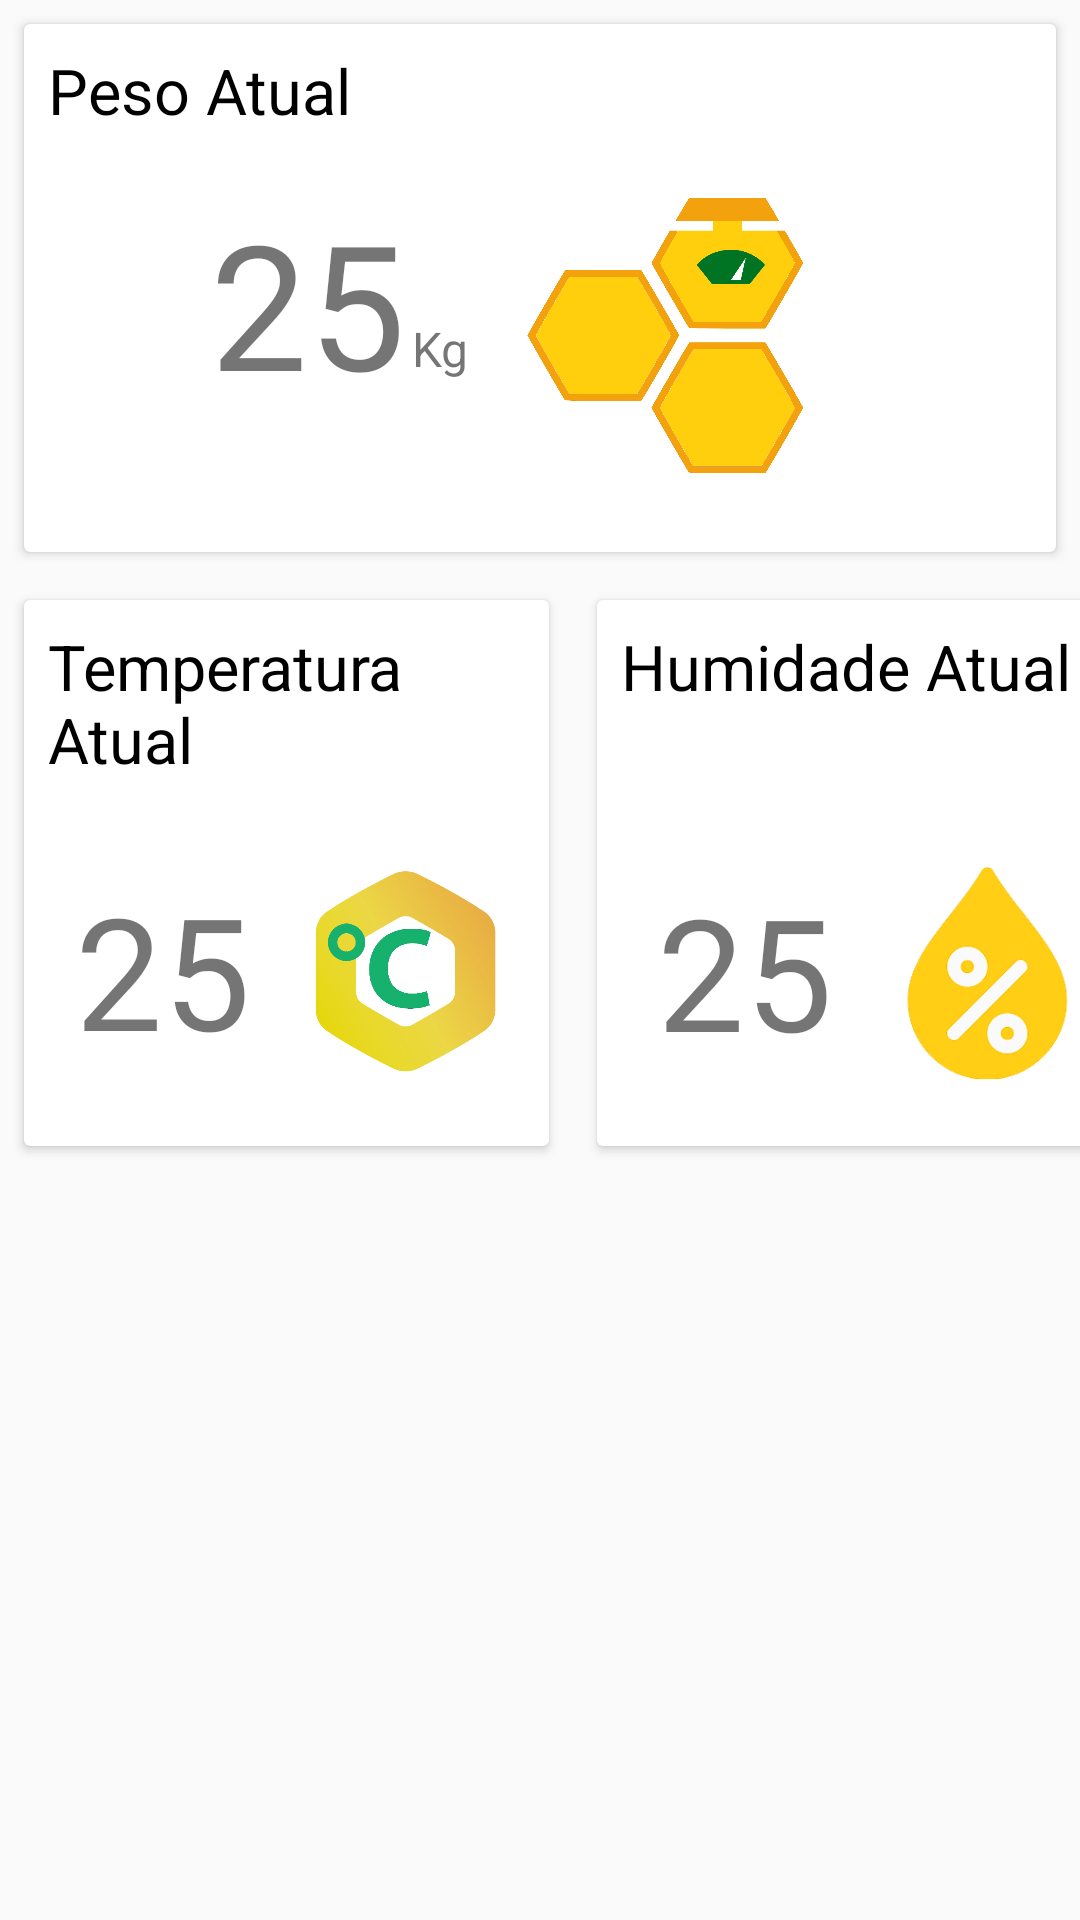

Screen size 1080 × 1920. Icon name, then its box in pixels as (x1, y1, x2, y2):
peso: (527, 198, 803, 473)
